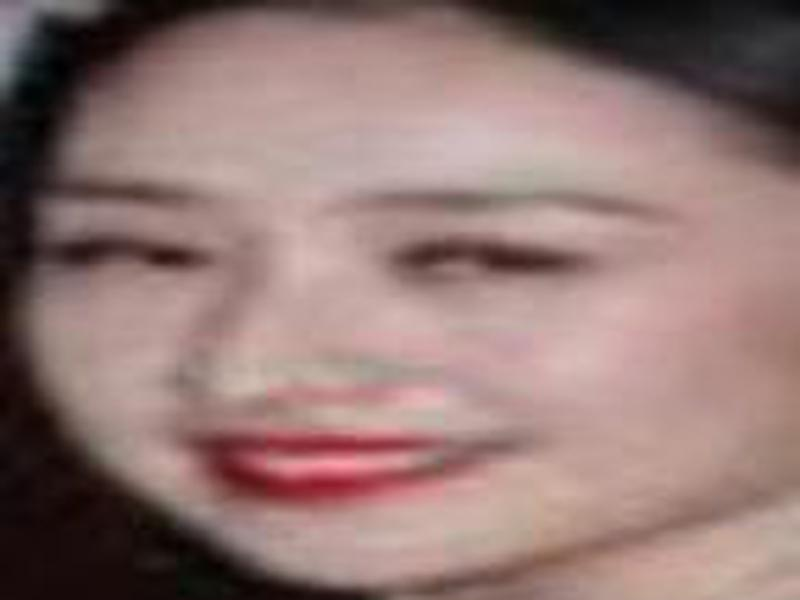without_mask: (27, 44, 749, 584)
